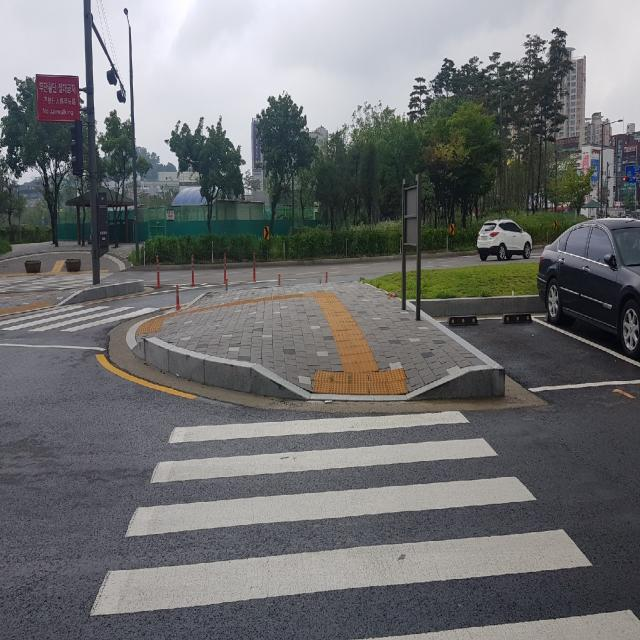횡단보도: (88, 406, 640, 640)
